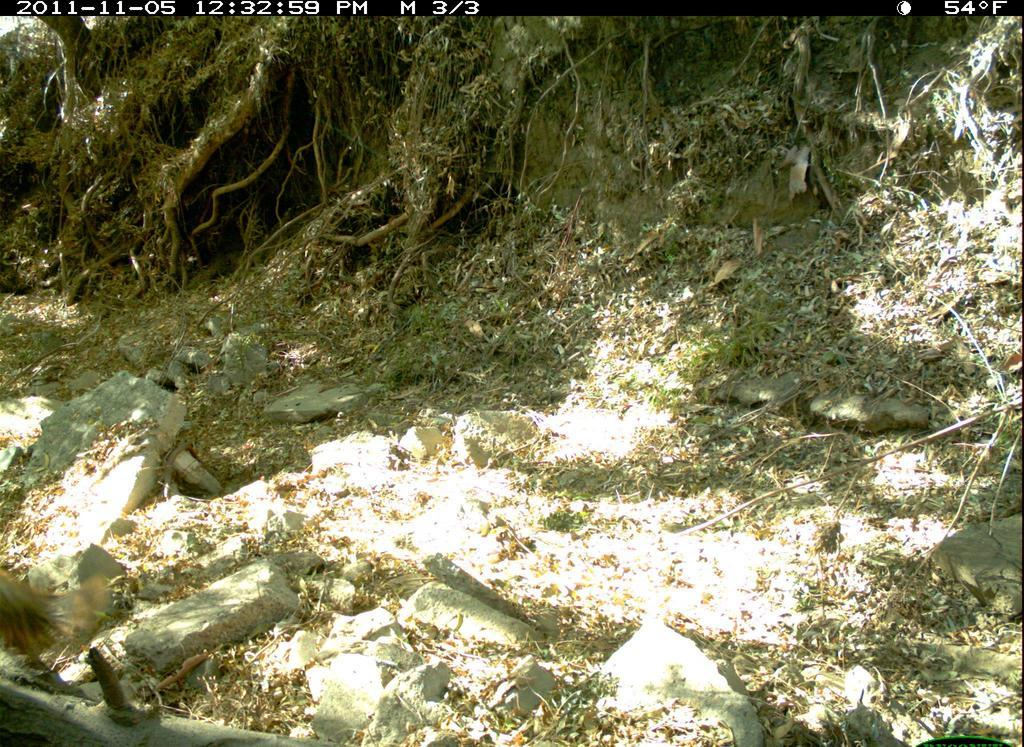squirrel: (1, 561, 113, 694)
